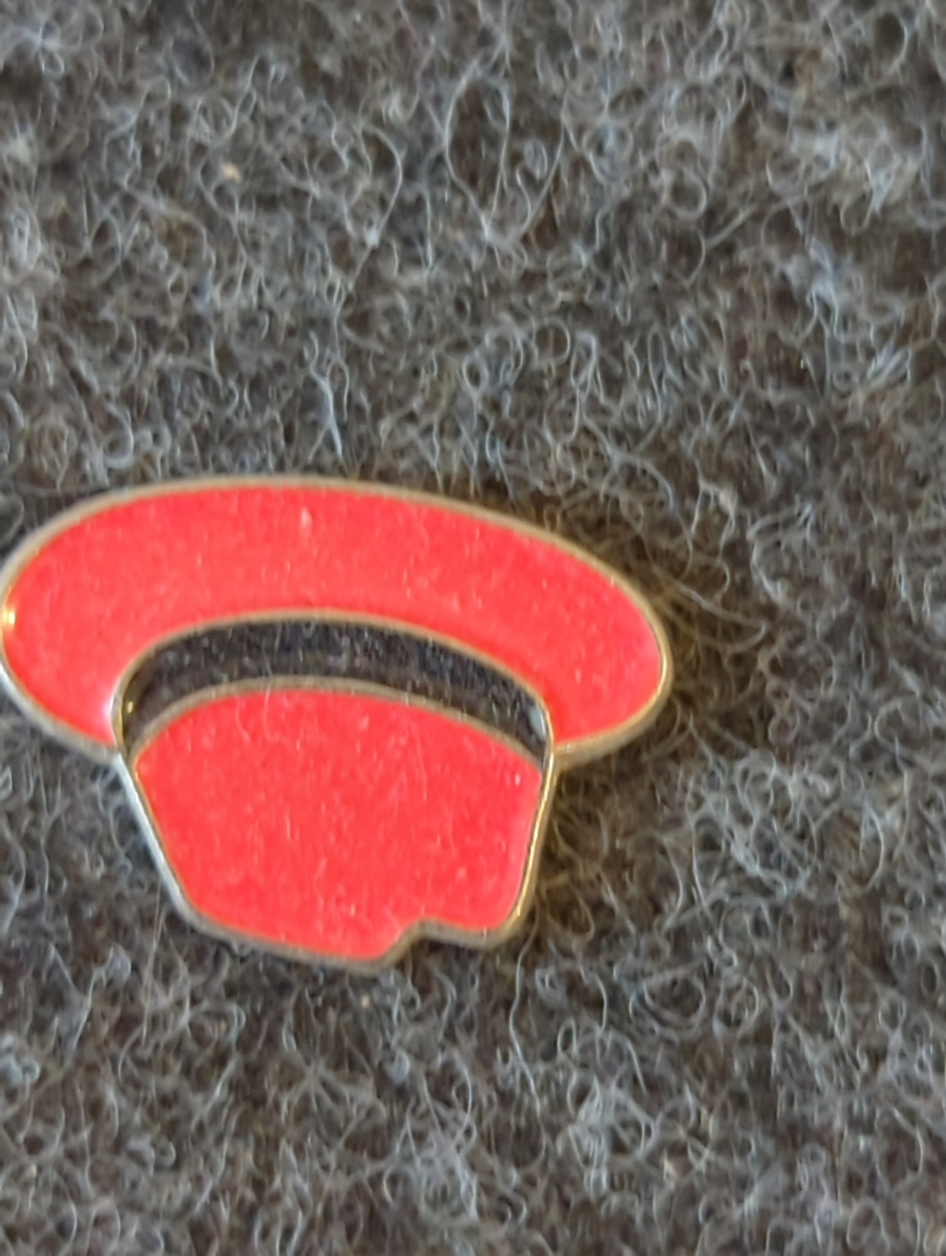Red-Hat: (0, 411, 758, 1071)
